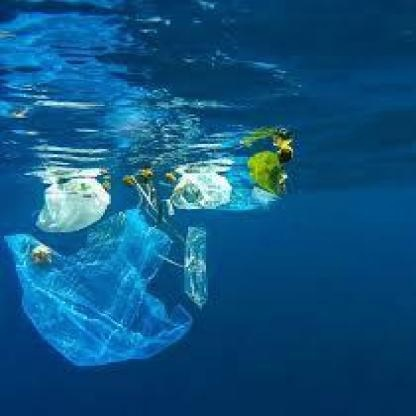pbag: (4, 206, 232, 368), (24, 165, 109, 225), (164, 161, 234, 206)
